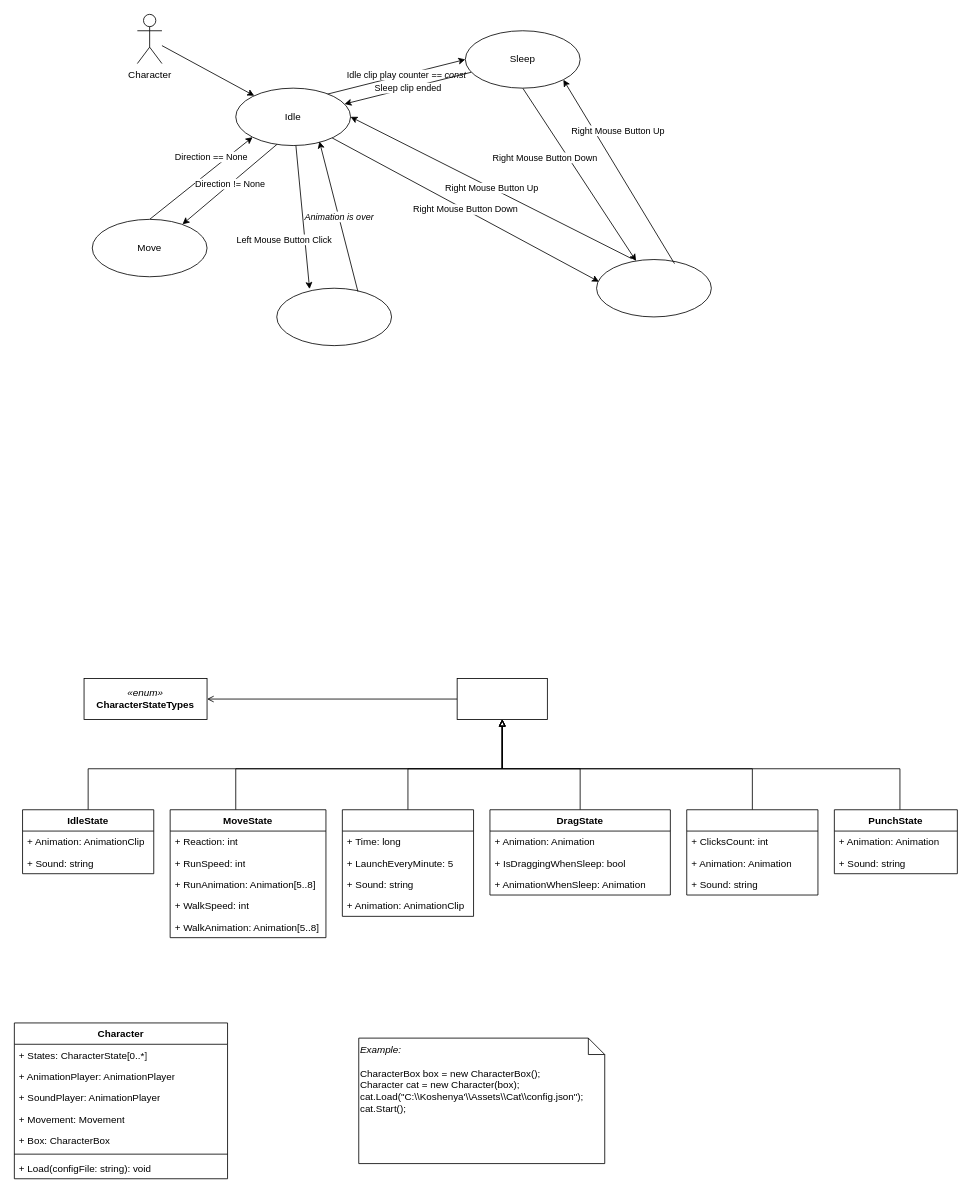
This 972x1196 diagram has some shape labels left out. The shapes that lost their labels are listed below. From the top down, each one's box as (x1, y1, x2, y2) in pixels, then its label:
(596, 259, 711, 317): Drag
(276, 287, 392, 346): Punch
(456, 678, 547, 720): «abstract» CharacterState
(342, 809, 474, 916): SleepState
(686, 809, 818, 895): AngerState
